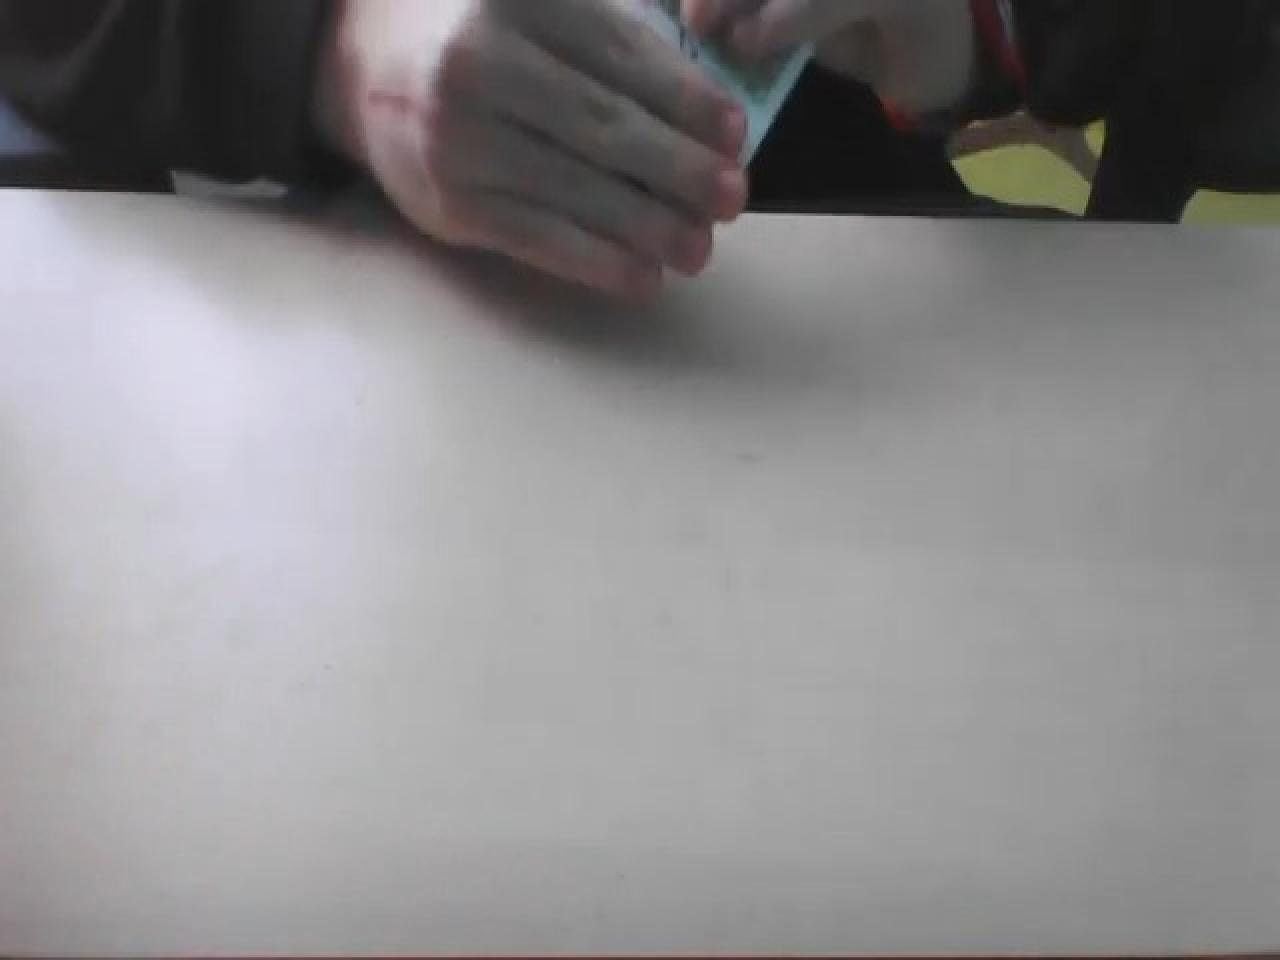100leva: (614, 0, 814, 176)
